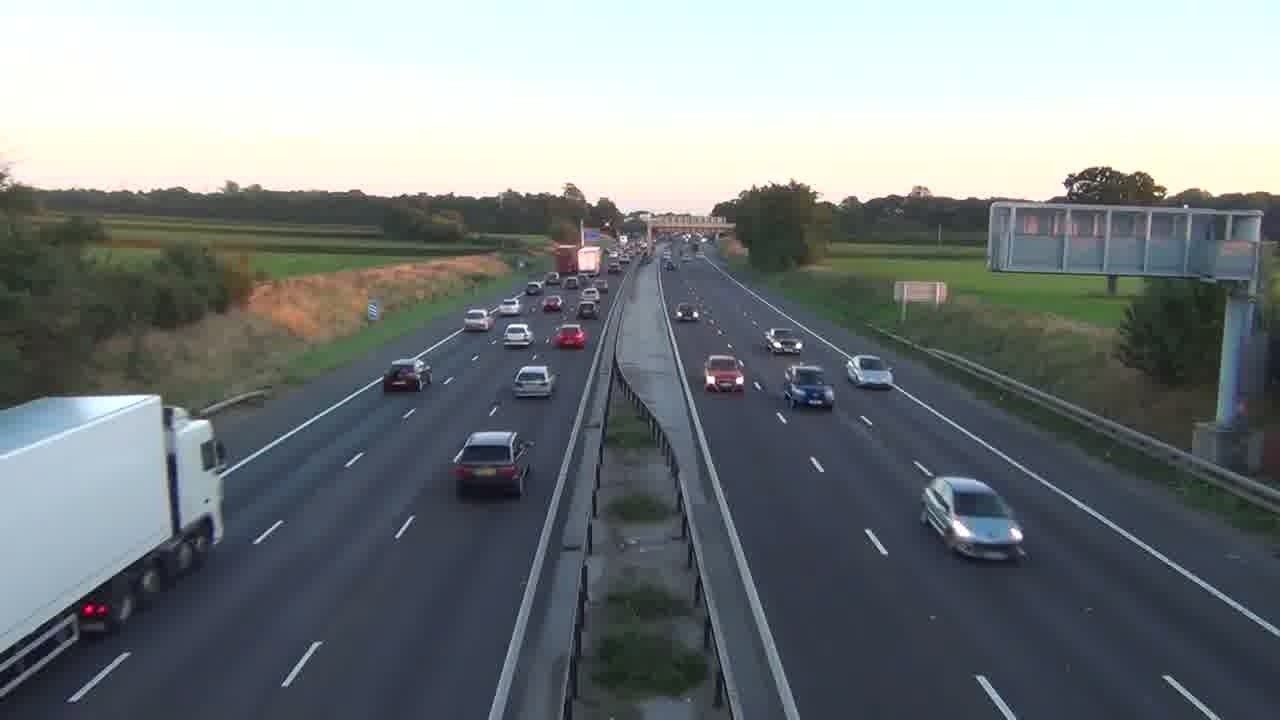car: (920, 475, 1027, 562), (450, 430, 534, 498), (783, 363, 835, 408), (845, 353, 895, 390), (383, 356, 433, 392), (703, 354, 746, 393), (511, 363, 557, 398), (764, 327, 804, 355), (550, 324, 587, 350), (503, 322, 534, 350), (542, 294, 563, 312)
truck: (1, 393, 228, 687)
